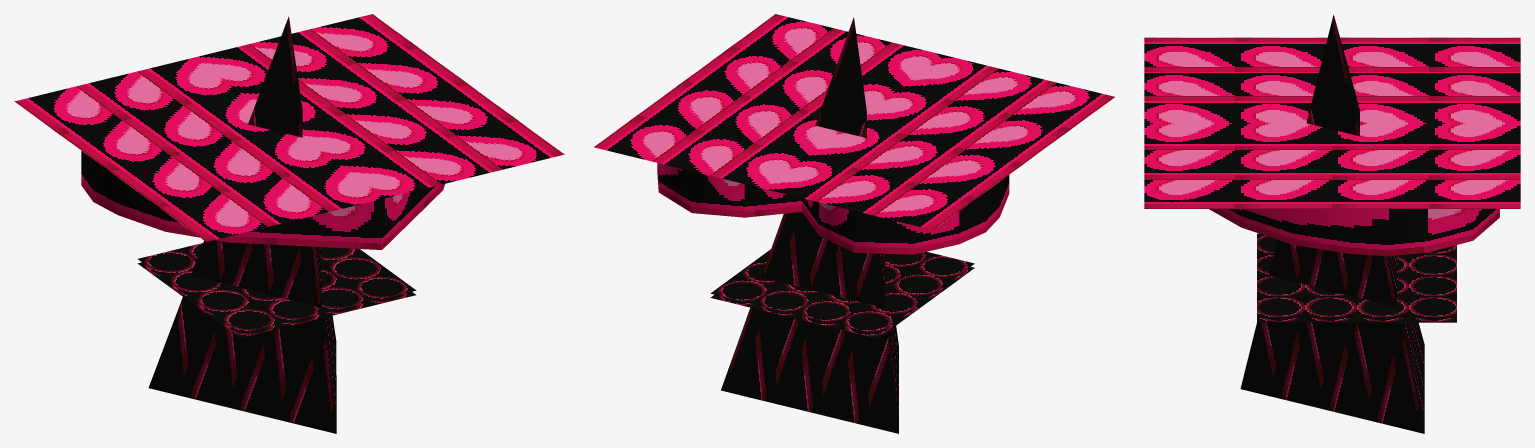
The model's file is 3823kg3_ser04.gltf.
3 views of the same model, side by side, from view 1: azimuth 30°, elevation 25°; view 2: azimuth 150°, elevation 25°; view 3: azimuth 270°, elevation 25° (orthographic). The views are drawn at different scales.
Visible parts, largest first — view 1: 3823kg3_ser04; view 2: 3823kg3_ser04; view 3: 3823kg3_ser04.
Part boxes in pixels (x1,y1,x2,y2): 3823kg3_ser04: [14, 14, 564, 433]; 3823kg3_ser04: [594, 14, 1114, 433]; 3823kg3_ser04: [1144, 14, 1520, 433].
Bounding box in the file's own units: 1.04 × 1.06 × 0.9624.
3 materials, 3 textured.
